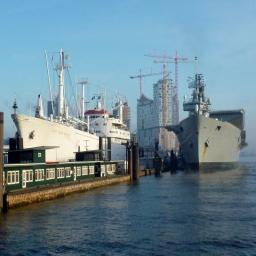Portanaves: (165, 55, 250, 175)
